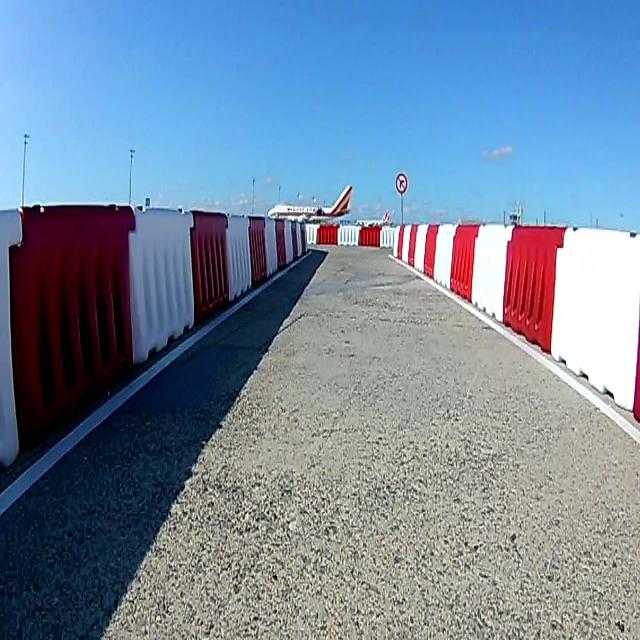sagadonulmez: (395, 173, 407, 194)
